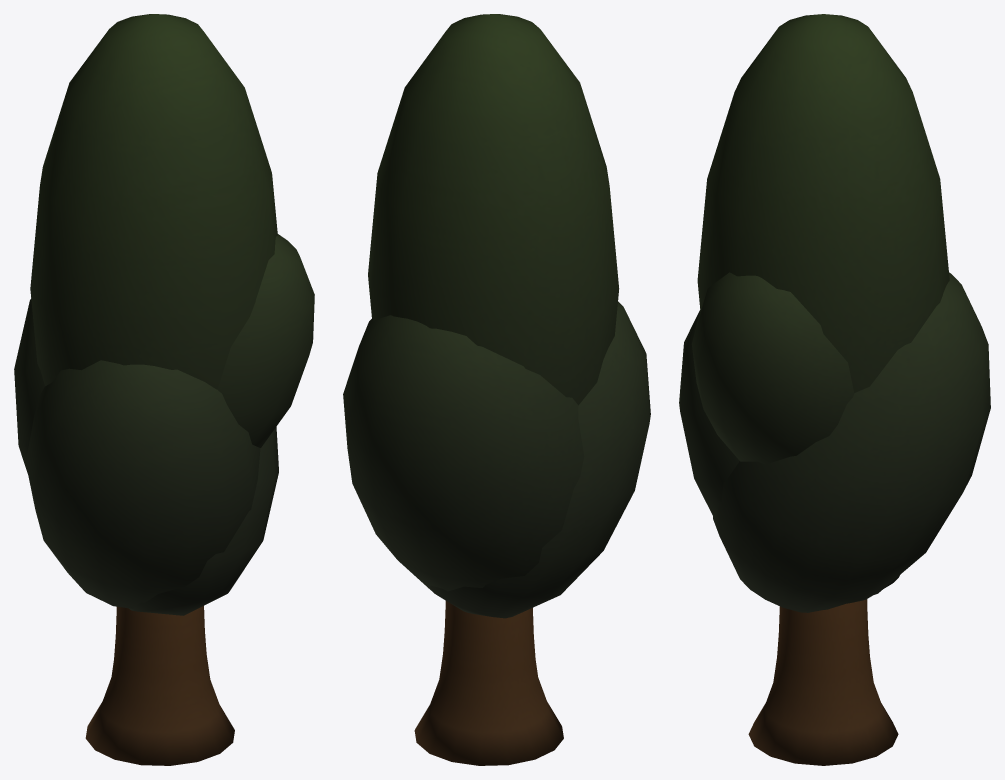
The model's file is boom3.fbx.
3 renders of one model, left to right at view 1: azimuth 30°, elevation 25°; view 2: azimuth 150°, elevation 25°; view 3: azimuth 270°, elevation 25°, orthographic.
Visible parts, largest first — view 1: Sphere.016; view 2: Sphere.016; view 3: Sphere.016.
Part boxes in pixels (x1,y1,x2,y2): Sphere.016: (14, 14, 314, 765); Sphere.016: (343, 14, 650, 765); Sphere.016: (679, 14, 990, 765).
Bounding box in the file's own units: 842 × 2299 × 905.
1 material, 1 textured.
